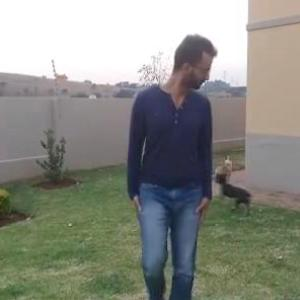follow: (132, 21, 219, 260)
